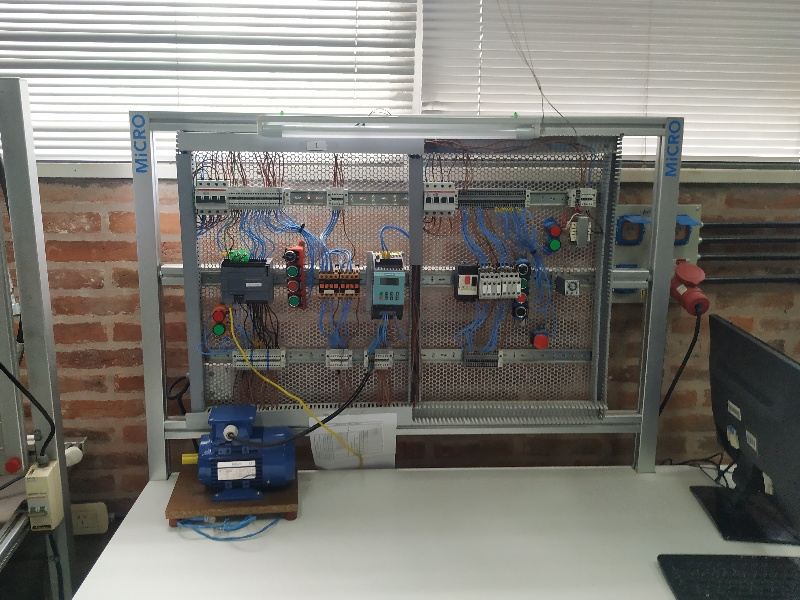Tablero 1: (186, 146, 612, 414)
